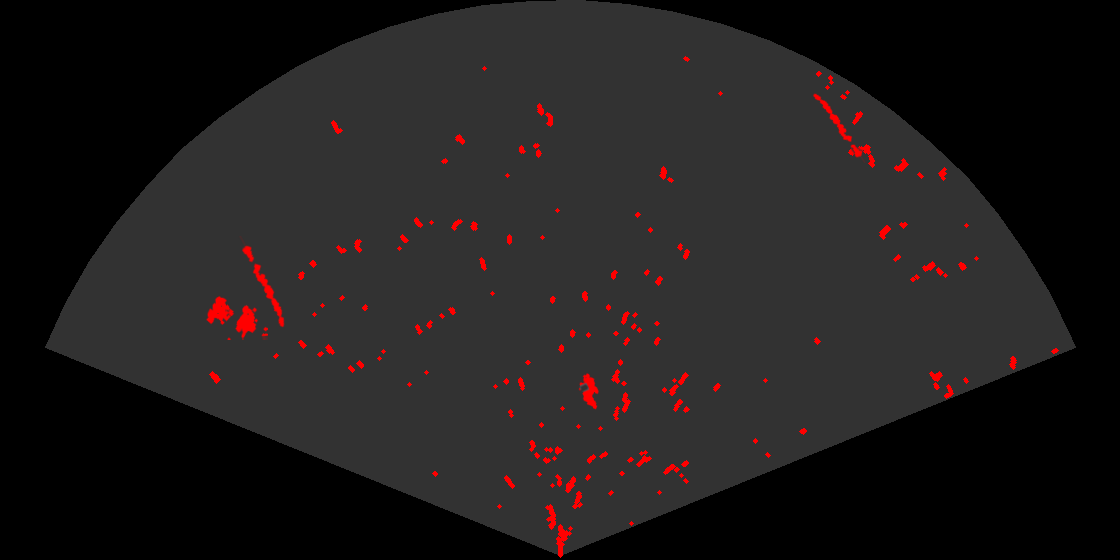AUV: (577, 371, 600, 411)
cage: (204, 294, 268, 340)
chain: (238, 236, 286, 329), (811, 92, 867, 163)
